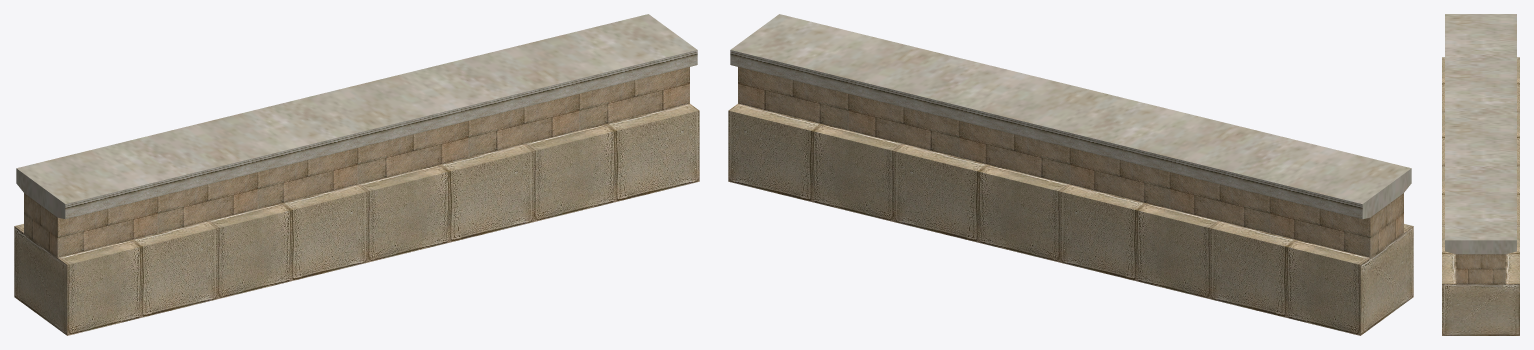
File: thm_nboo_imprv_pristine_wall_sml_s02_l0.fbx
3 views of the same model, side by side, from view 1: azimuth 30°, elevation 25°; view 2: azimuth 150°, elevation 25°; view 3: azimuth 270°, elevation 25° (orthographic). The views are drawn at different scales.
Parts seen in each view (by area): view 1: mesh_node; view 2: mesh_node; view 3: mesh_node.
Part boxes in pixels (x1,y1,x2,y2): mesh_node: (14,14,699,335); mesh_node: (728,14,1413,335); mesh_node: (1442,14,1519,335).
Size of the model in its own units: 10.01 by 1.97 by 1.45.
